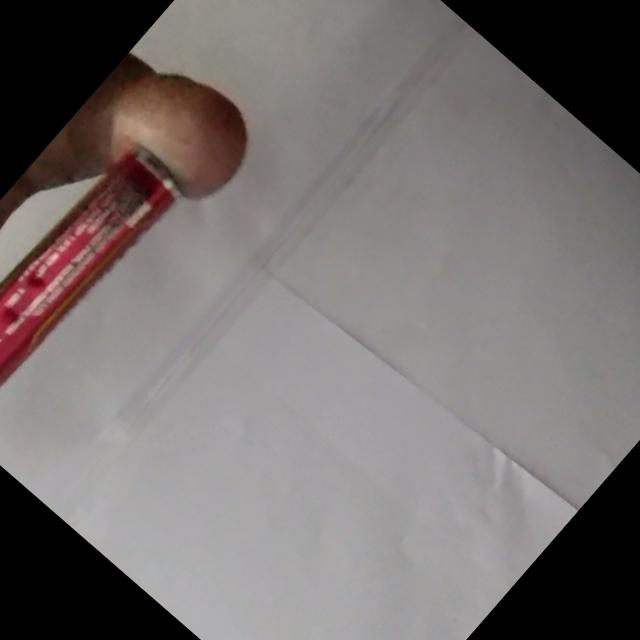battery: (0, 152, 179, 388)
dent: (0, 300, 24, 329), (21, 270, 48, 294)
